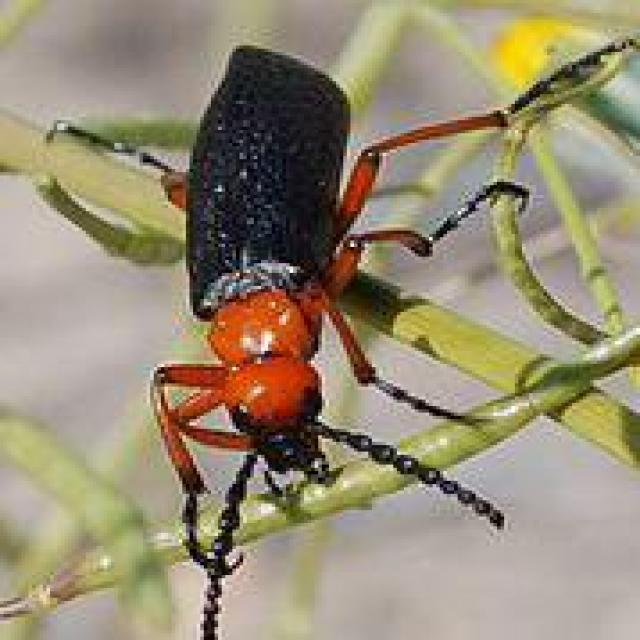BlisterBeetle-Adult-: (85, 43, 534, 600)
